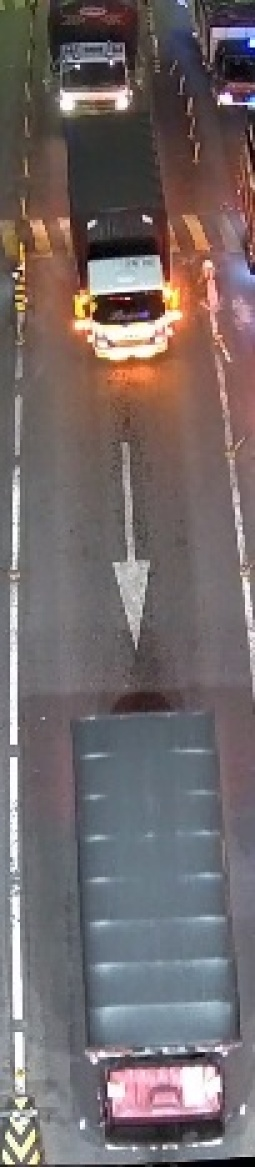truck: (58, 706, 241, 1152), (63, 113, 186, 373), (46, 5, 145, 114)
